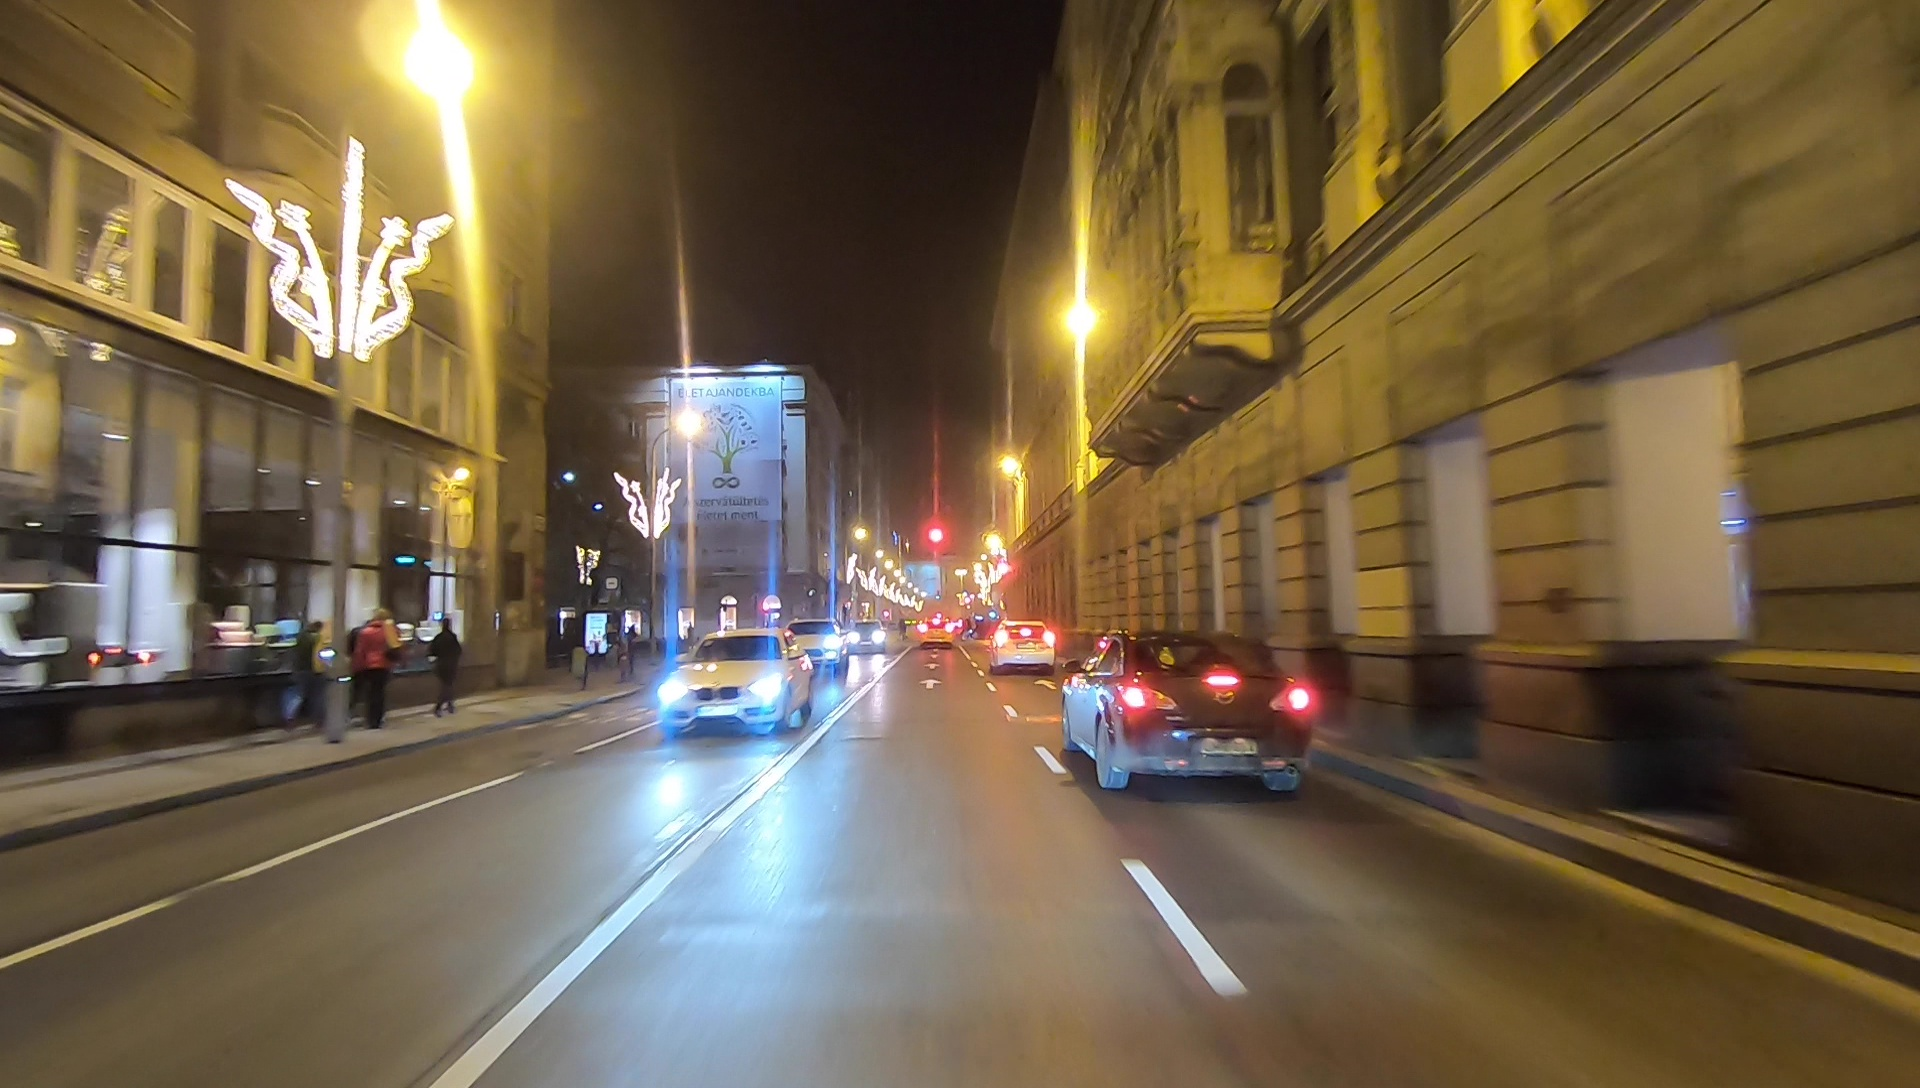person: (282, 619, 325, 736), (354, 611, 391, 730), (430, 621, 464, 717)
